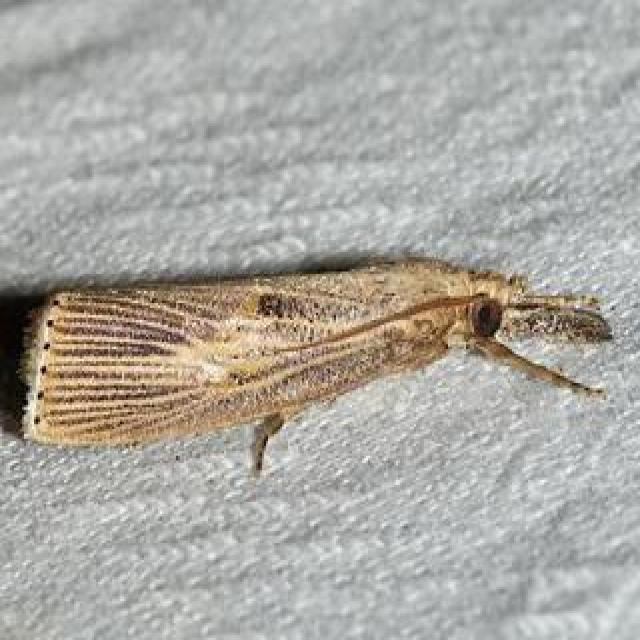yellow-stem-borer: (15, 163, 640, 539)
